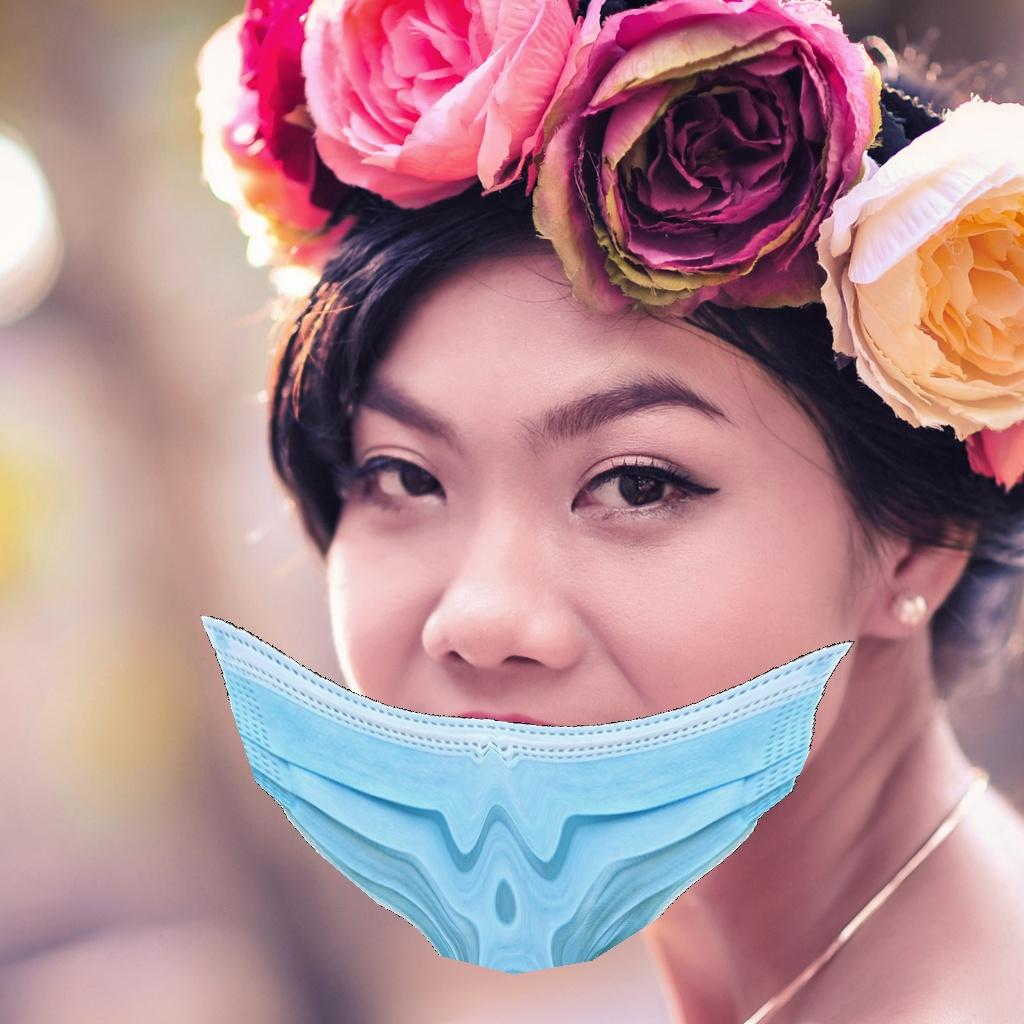Máscara Incorreta: (300, 304, 879, 940)
